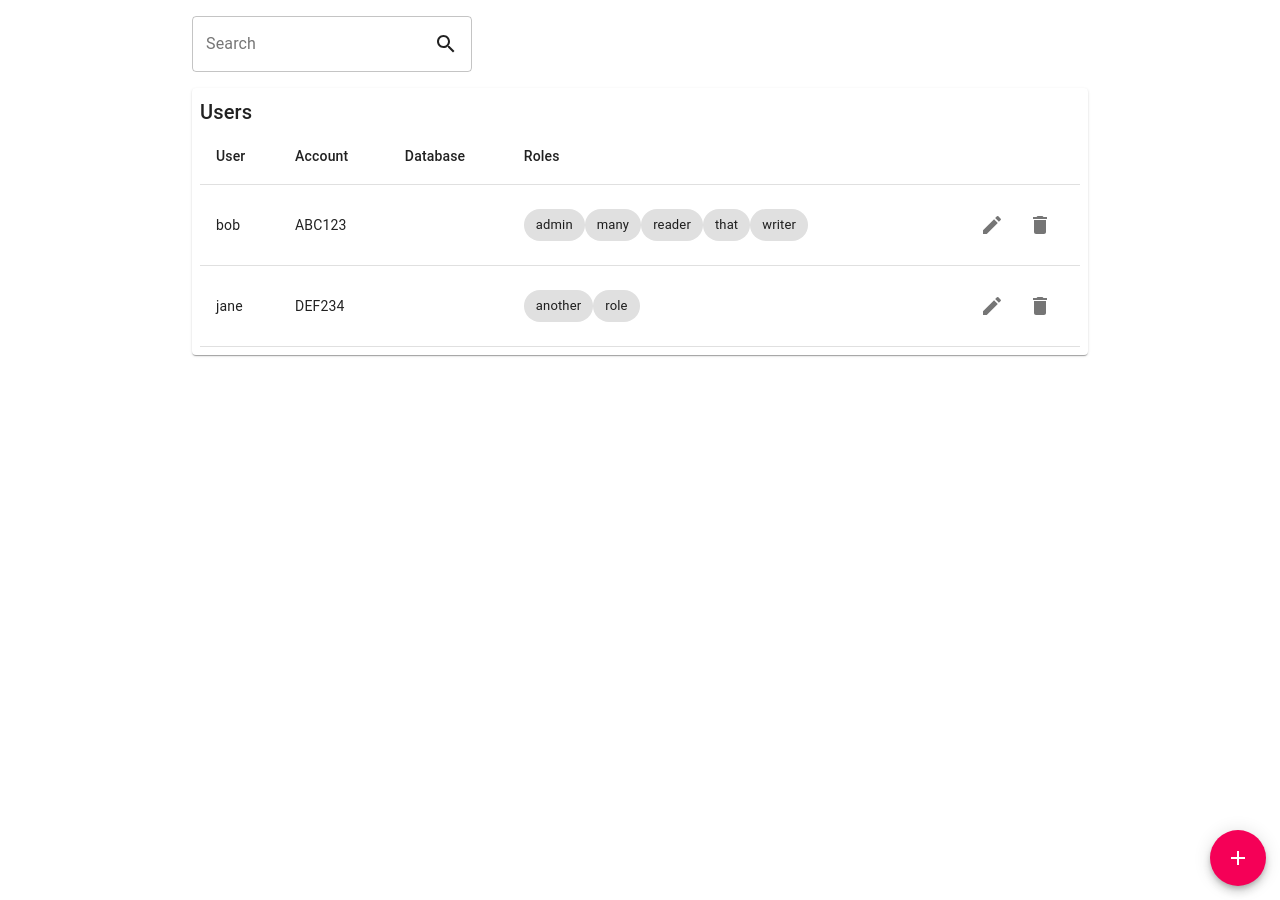
Scenario: Home page › can edit a user
This screenshot has width=1280, height=900.
Click the button named "edit" in the row of "bob".
click(992, 225)  # box [968, 201, 1016, 249]
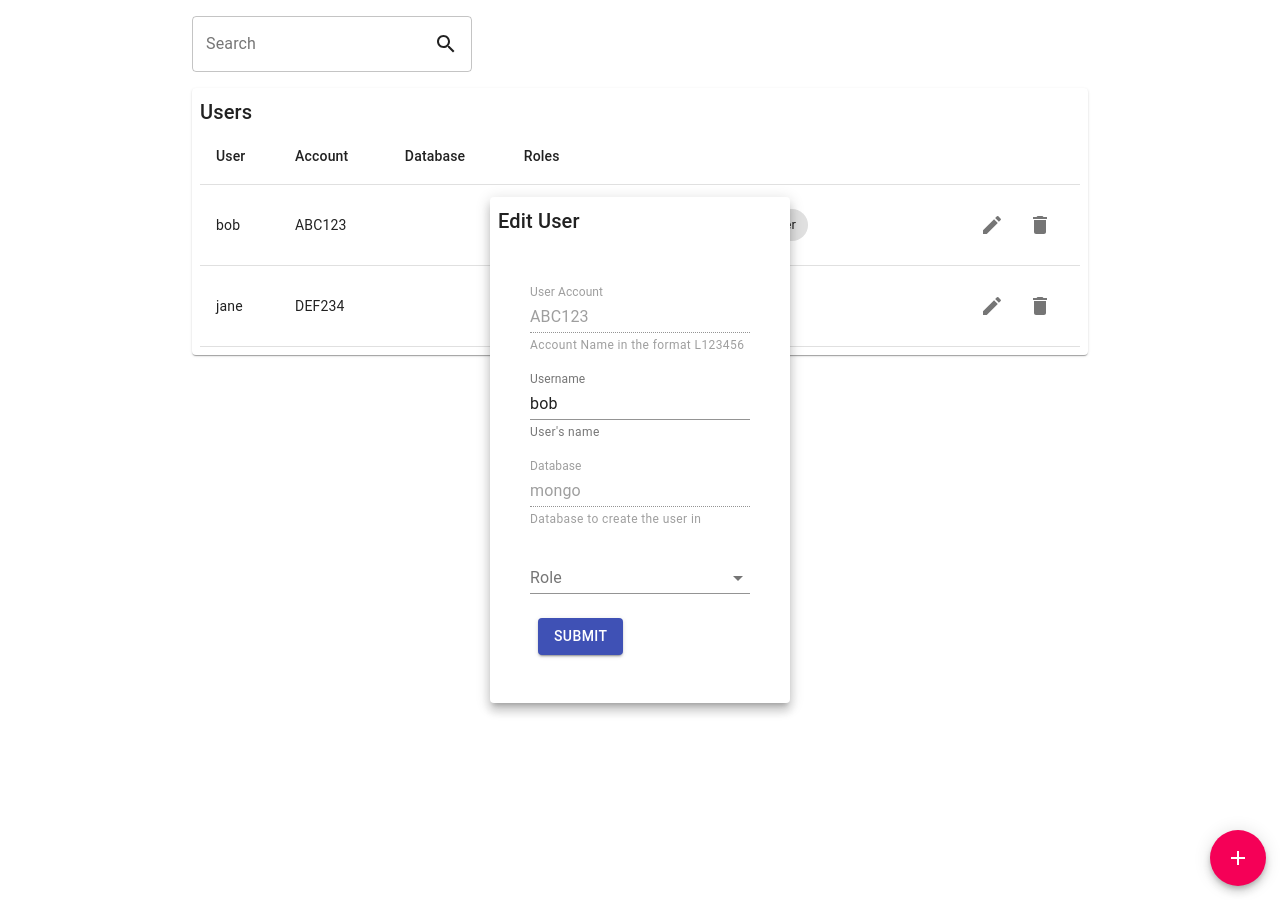
Now the heading "Edit User" is shown, box [498, 209, 580, 233]
Replace the text in the field labelled "Username" with "Billy" at {"x": 640, "y": 404}, box [530, 388, 750, 420]
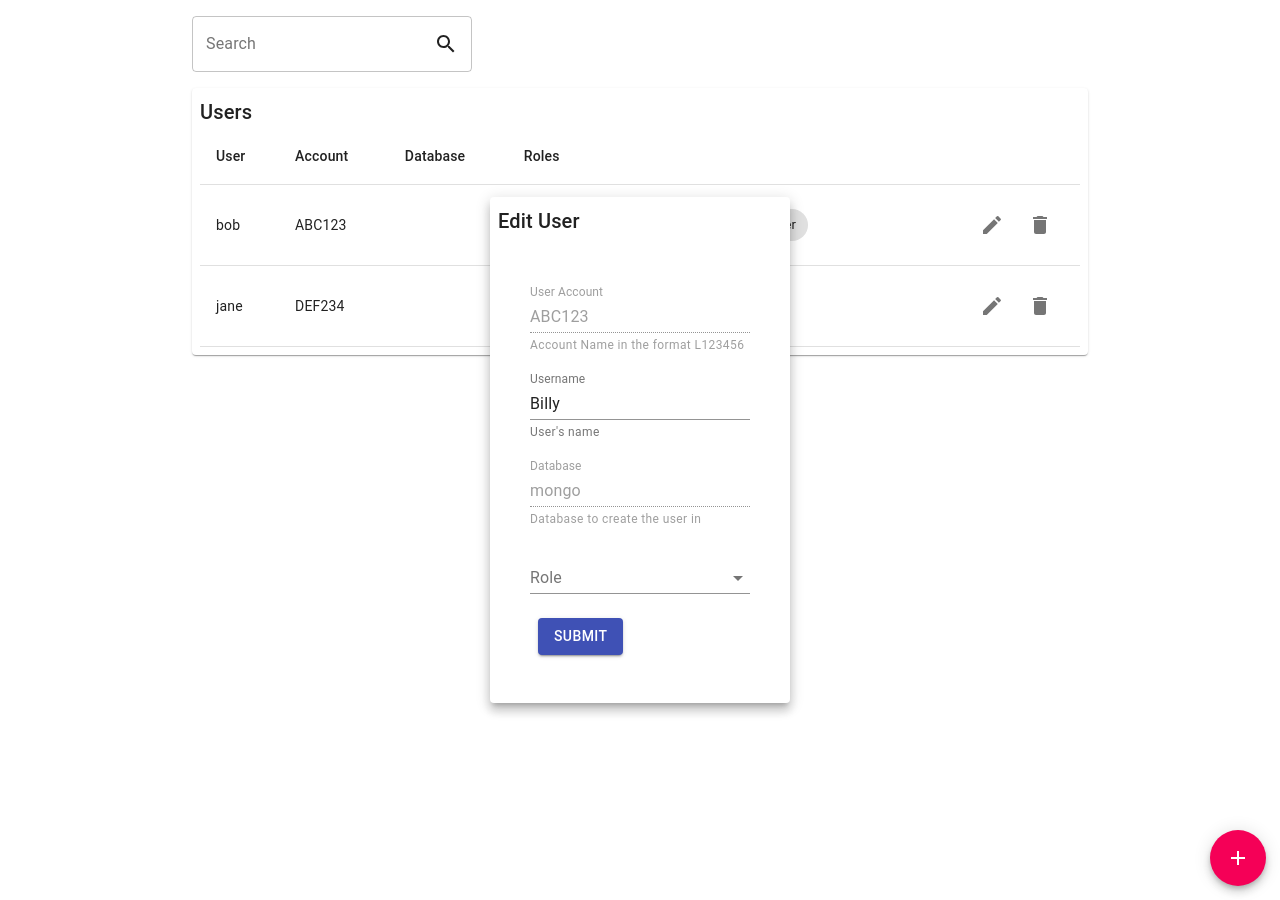
Click the button "Submit".
click(581, 636)  # box [538, 618, 623, 655]
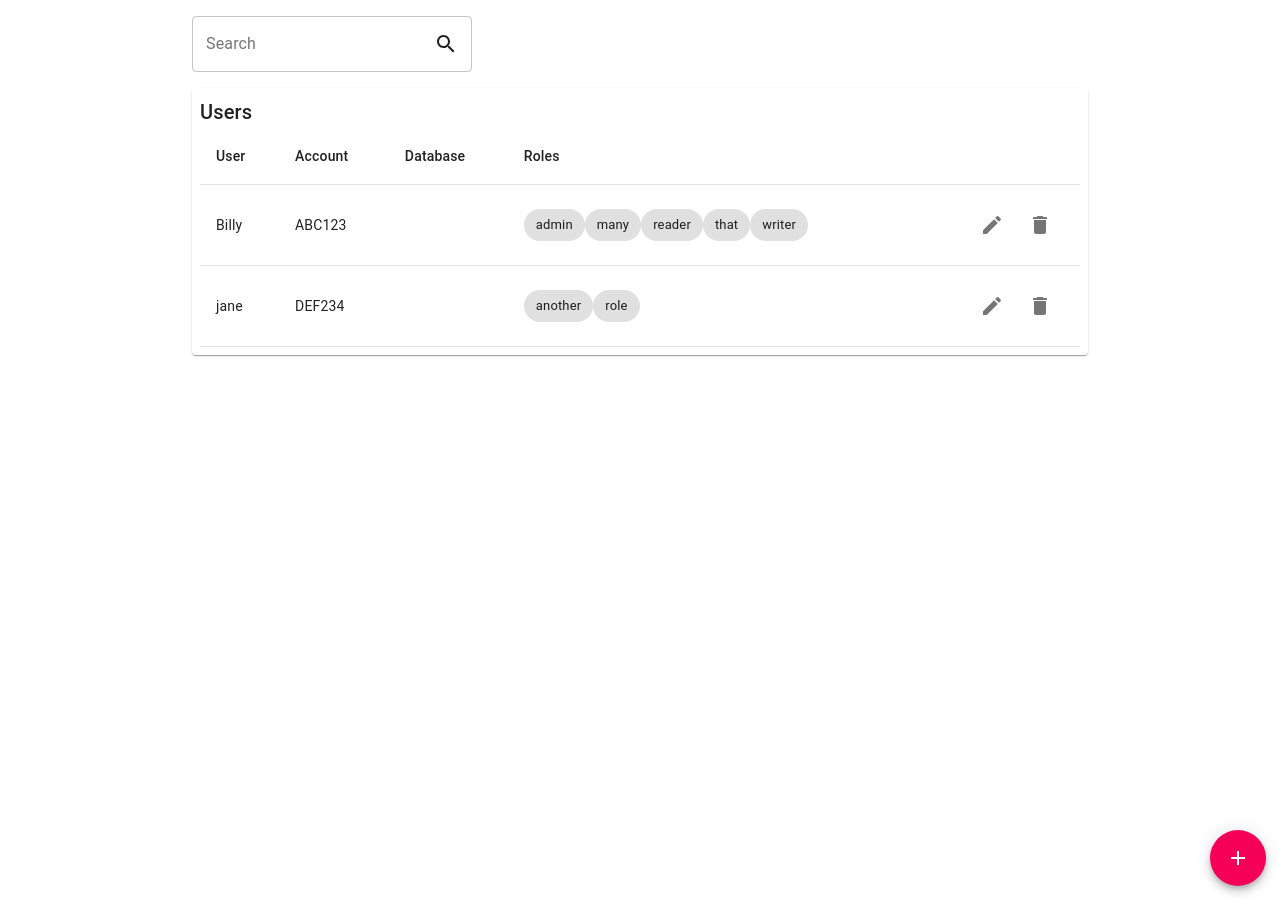
Now the heading "Edit User" is gone
Now the text "Billy" is shown, box [200, 184, 279, 266]
